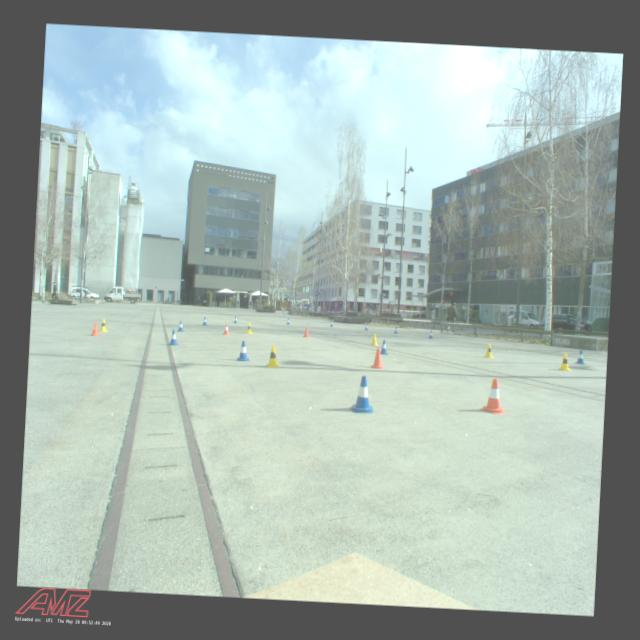blue_cone: (348, 376, 376, 414), (236, 340, 252, 362), (168, 329, 180, 346), (574, 350, 586, 364), (379, 340, 389, 355), (177, 321, 186, 332), (202, 317, 209, 326), (286, 318, 291, 326), (429, 331, 434, 339), (234, 316, 238, 324), (330, 320, 334, 327), (364, 324, 368, 331), (394, 327, 398, 334)
orange_cone: (480, 378, 508, 416), (370, 348, 384, 370), (90, 322, 102, 338), (223, 324, 231, 336), (302, 327, 310, 338)
yellow_cone: (264, 345, 282, 369), (558, 353, 573, 372), (483, 344, 495, 359), (370, 334, 380, 346), (100, 319, 108, 332), (246, 322, 253, 334)
